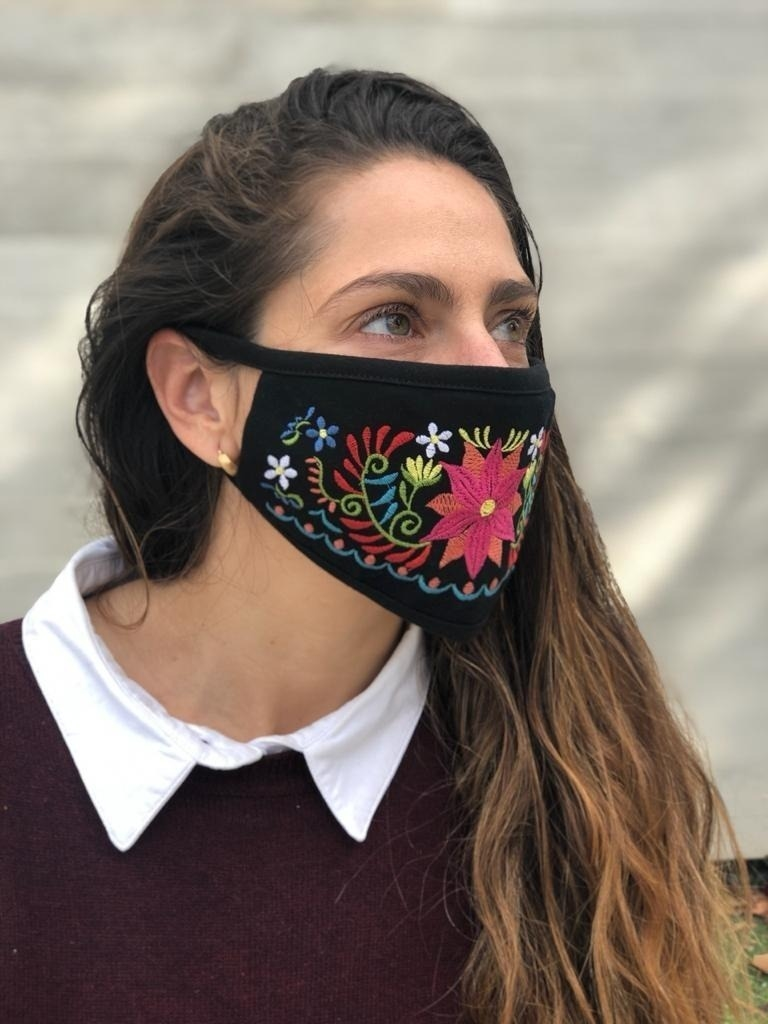barbijo: (139, 298, 561, 635)
